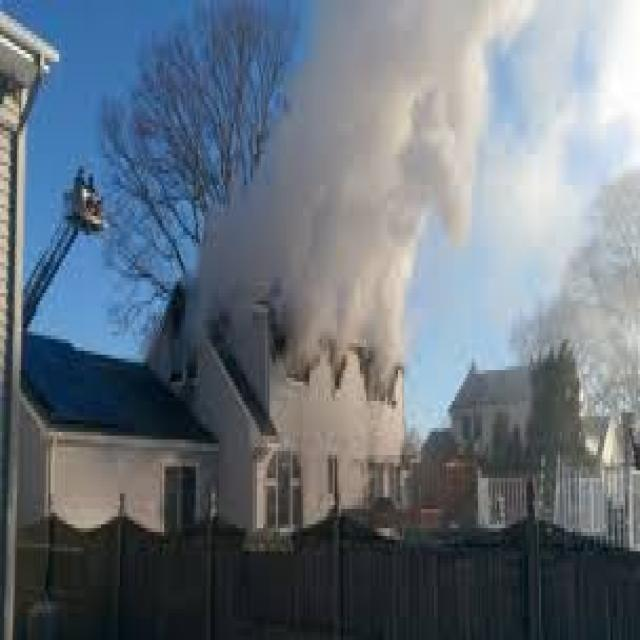Smoke: (185, 0, 639, 417)
